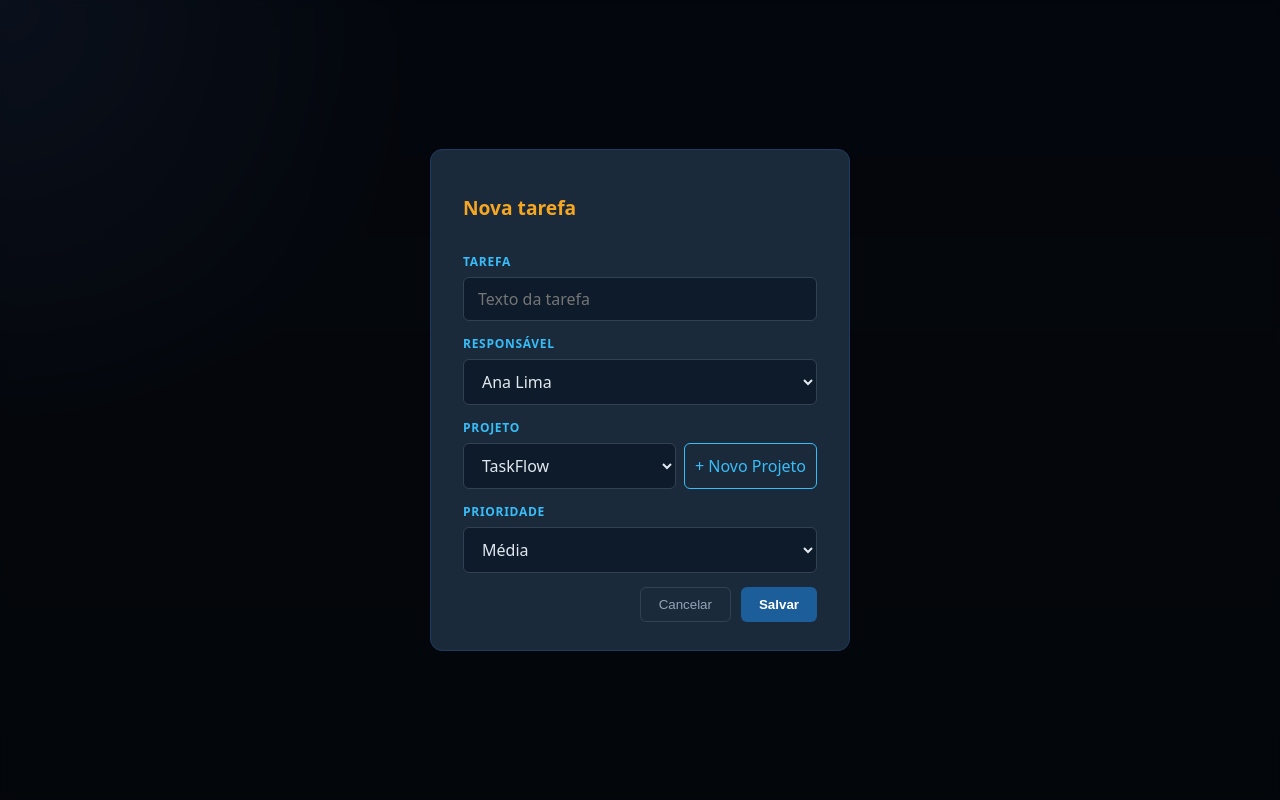
Test: ModalTarefa › desabilita o botão e mostra o estado de salvamento enquanto aguarda
Type "Aguardar API" into the field labelled "Tarefa" at (640, 299), box [463,277,817,321]
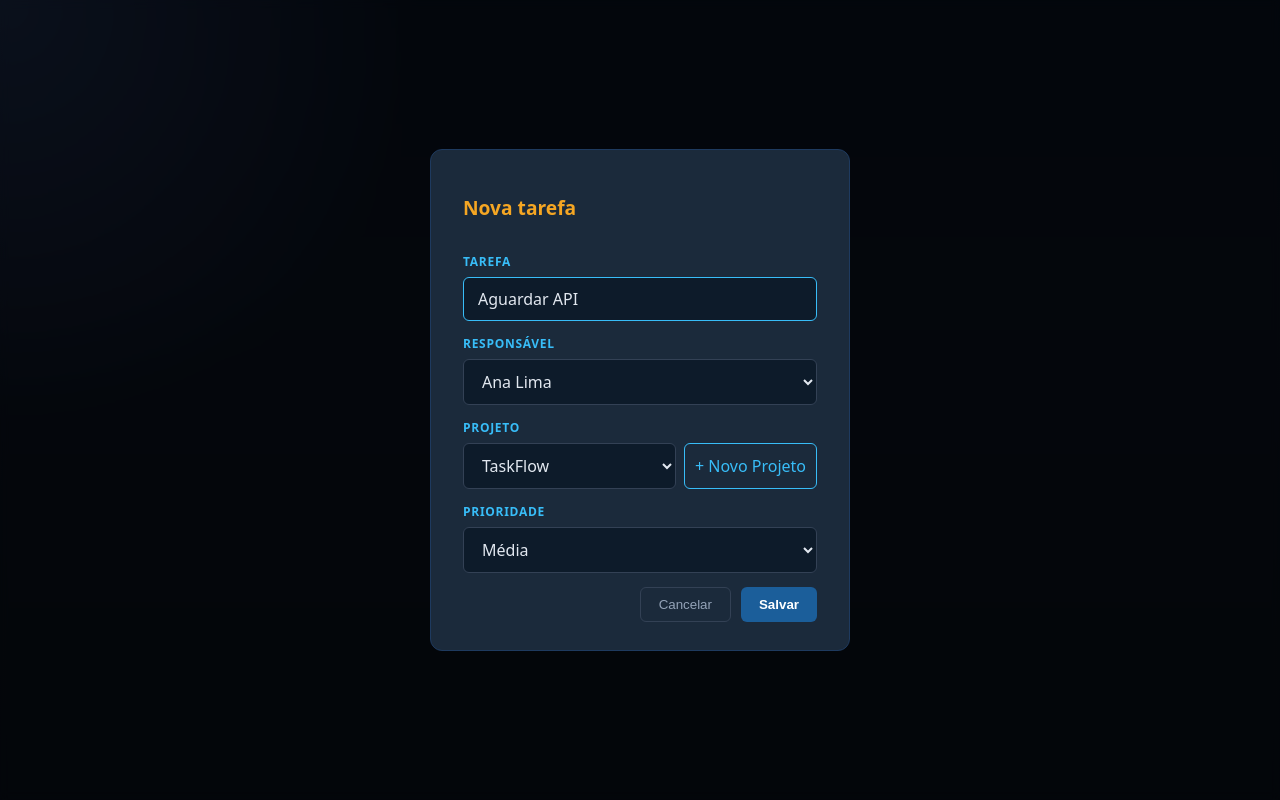
Click the button "Salvar" at (779, 604), box [741,587,817,622]
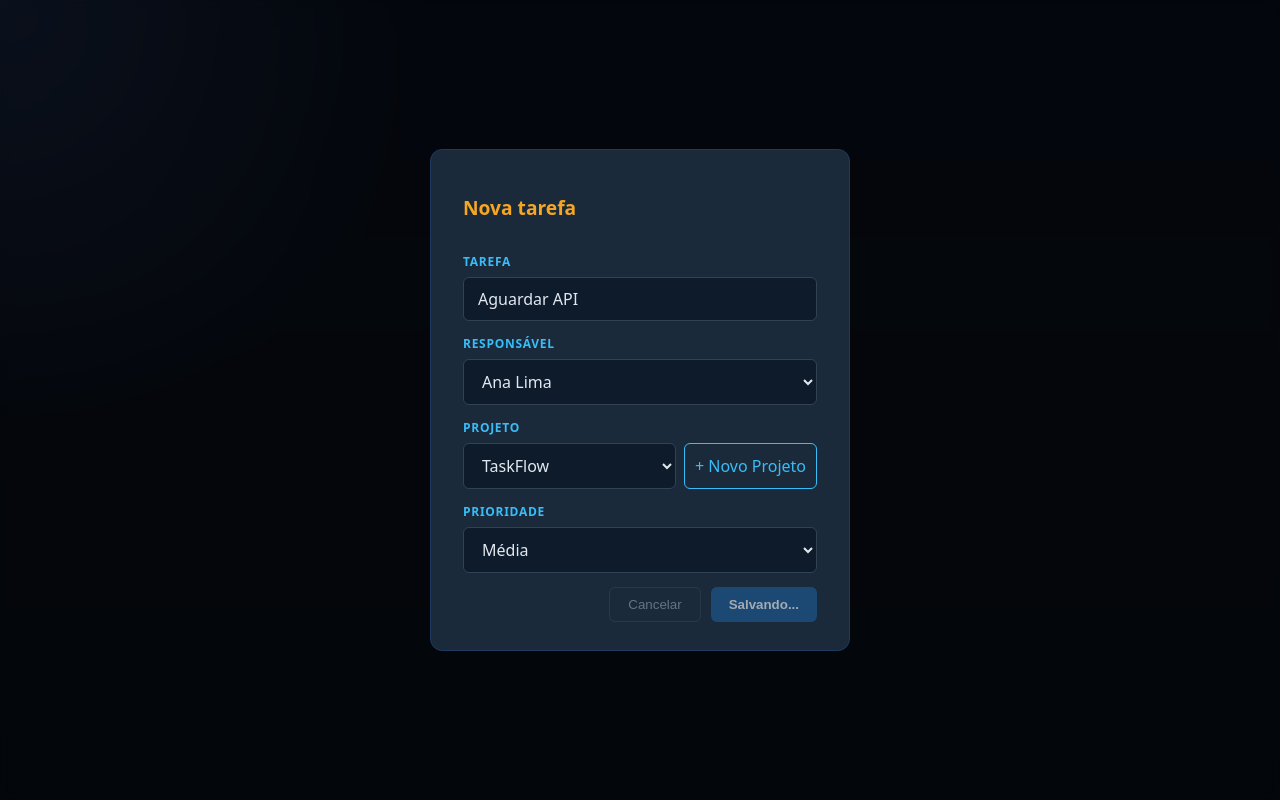
Expected: the button "Salvando..." is disabled, [711,587,817,622]
